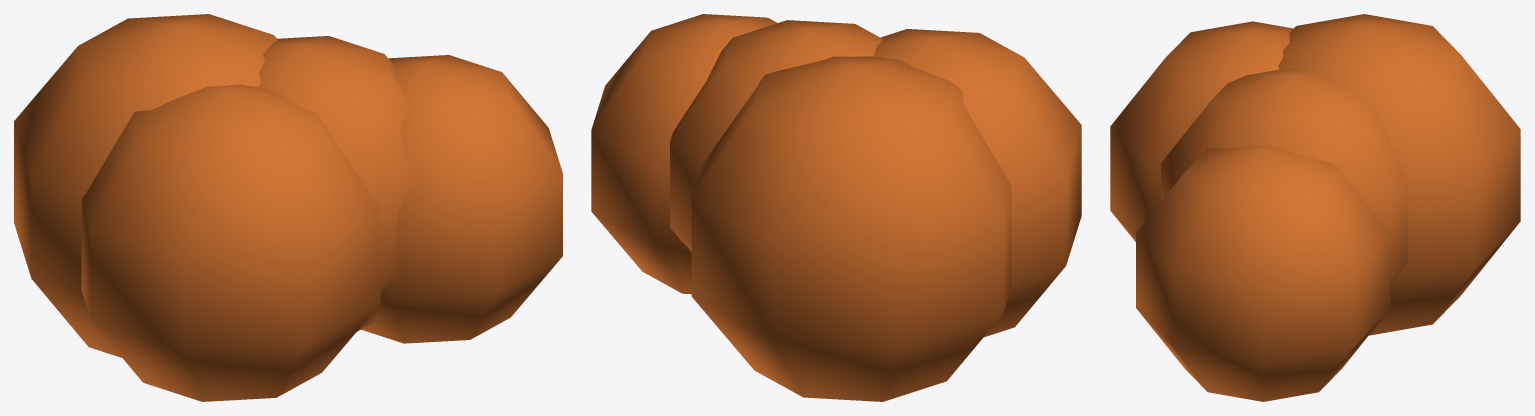
Rendered from prop_bushtruea_7f2a.glb.
The picture shows the model from 3 angles, left to right: view 1: azimuth 30°, elevation 25°; view 2: azimuth 150°, elevation 25°; view 3: azimuth 270°, elevation 25°; orthographic projection. The views are drawn at different scales.
Parts seen in each view (by area): view 1: prop_bushtruea_7f2a; view 2: prop_bushtruea_7f2a; view 3: prop_bushtruea_7f2a.
Boxes of the visible parts, x1,y1,x2,y2 form: prop_bushtruea_7f2a: (14, 14, 562, 401); prop_bushtruea_7f2a: (591, 14, 1081, 401); prop_bushtruea_7f2a: (1110, 14, 1520, 401).
Bounding box in the file's own units: 0.6622 × 0.4502 × 0.5624.
1 material, 1 textured.
